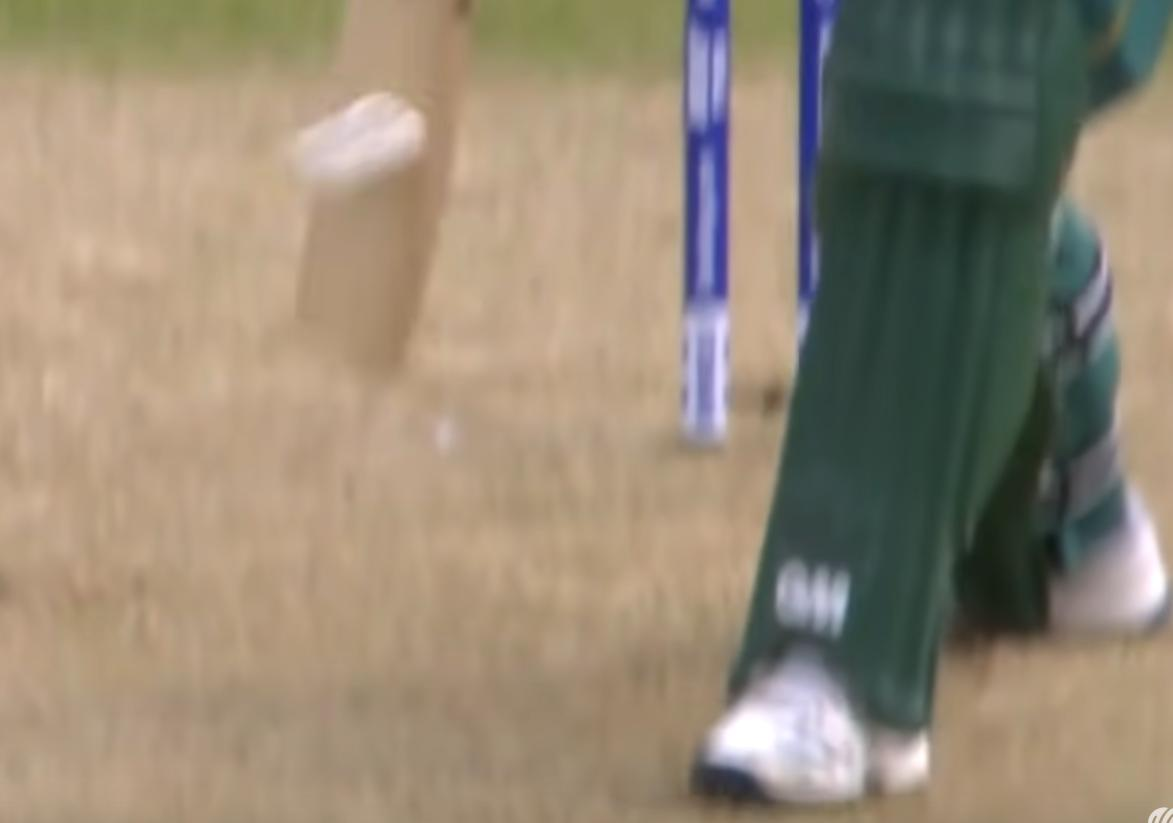Cricket-Ball: (308, 96, 428, 180)
